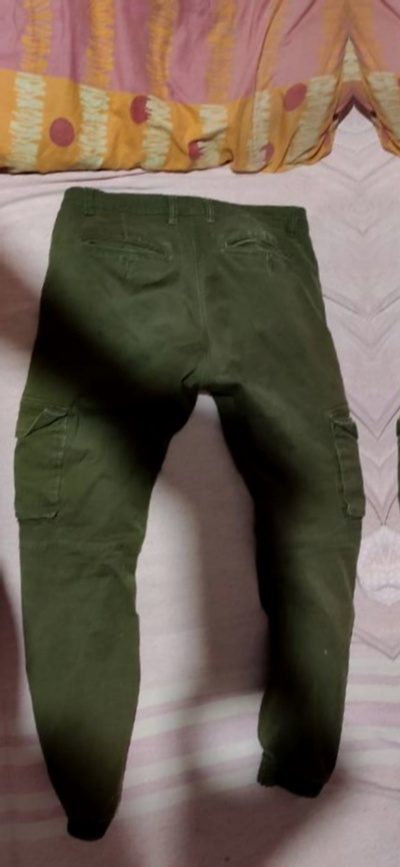Pants: (0, 137, 400, 853), (356, 110, 400, 826), (0, 165, 5, 867)
